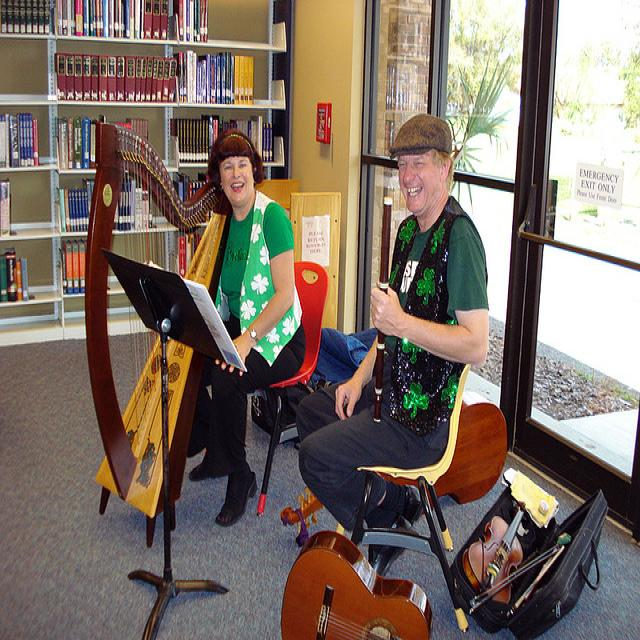guitar: (281, 525, 434, 640)
harp: (78, 124, 240, 526)
violin: (462, 504, 530, 603)
